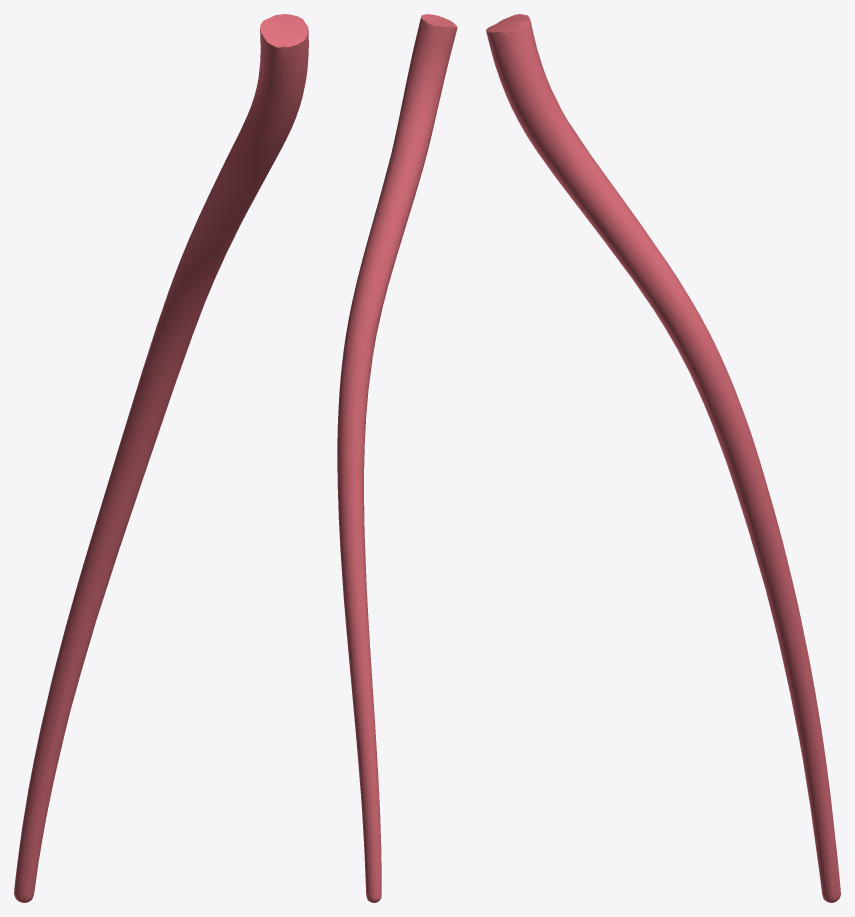
Rendered from fma66321_fj2305.glb.
3 renders of one model, left to right at view 1: azimuth 30°, elevation 25°; view 2: azimuth 150°, elevation 25°; view 3: azimuth 270°, elevation 25°, orthographic. The views are drawn at different scales.
Visible parts, largest first — view 1: FMA66321_FJ2305; view 2: FMA66321_FJ2305; view 3: FMA66321_FJ2305.
Boxes of the visible parts, box(x1,y1,x2,y2) form: FMA66321_FJ2305: box(14, 14, 308, 902); FMA66321_FJ2305: box(337, 14, 457, 902); FMA66321_FJ2305: box(486, 14, 840, 902).
Size of the model in its own units: 0.0106 by 0.0799 by 0.0278.
